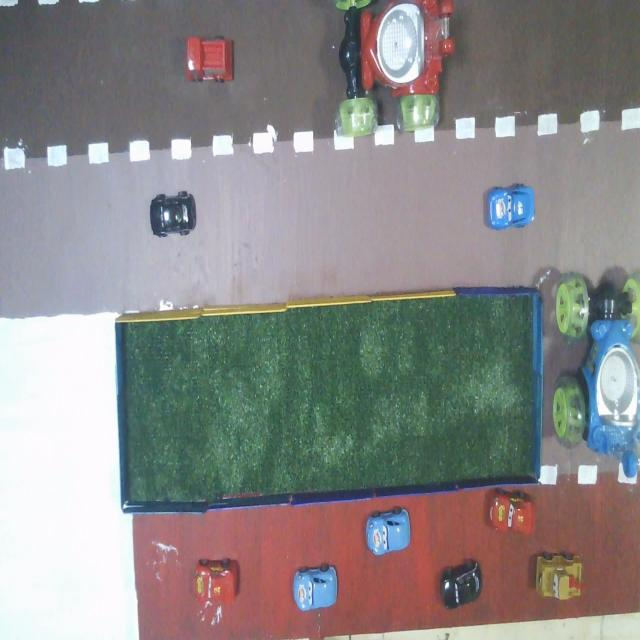driver car f: (552, 271, 639, 478)
small cars: (150, 191, 196, 237), (536, 554, 581, 600), (187, 37, 233, 82), (487, 185, 534, 229), (366, 508, 410, 555), (490, 490, 534, 535), (294, 564, 337, 610), (441, 560, 481, 609), (195, 559, 238, 603)
